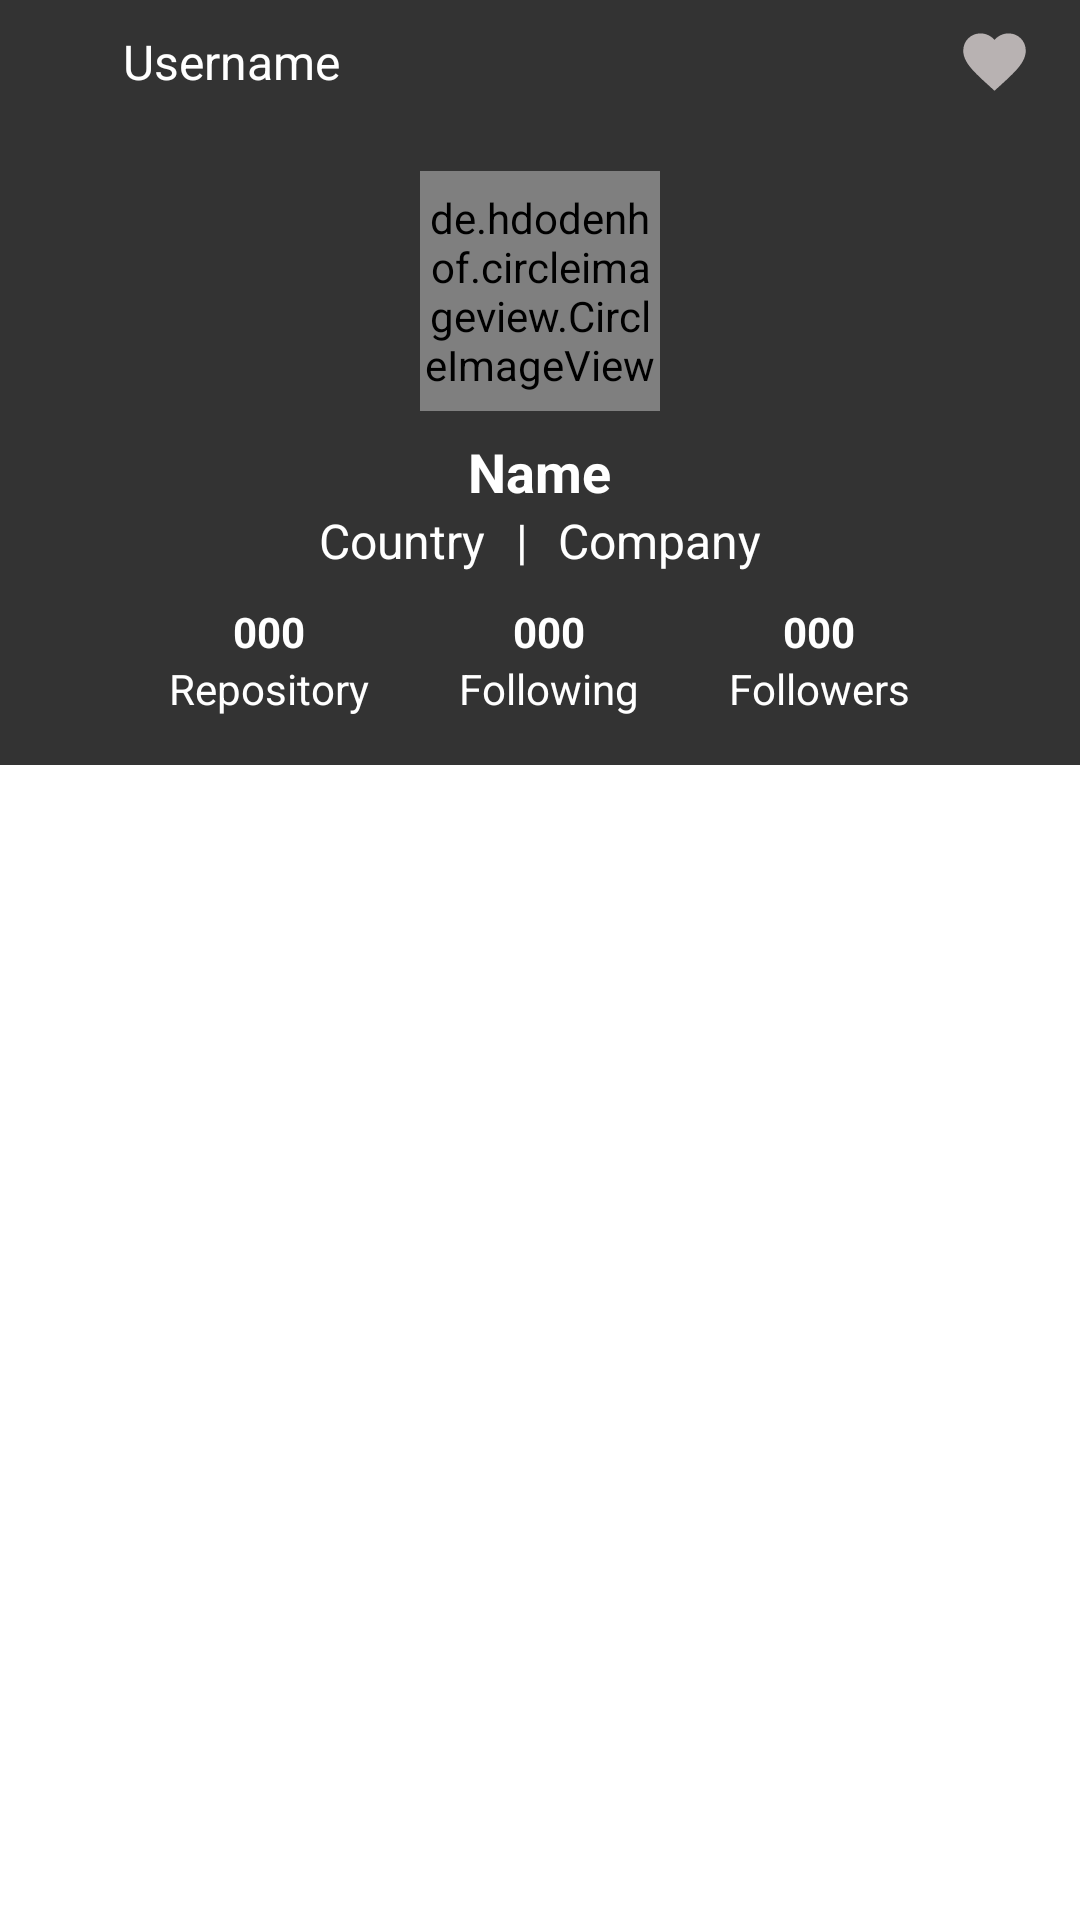

Point at icon controls on the screen. Image size 1080 x 1920, points as point (x, y).
favorite toggle: point (994, 62)
